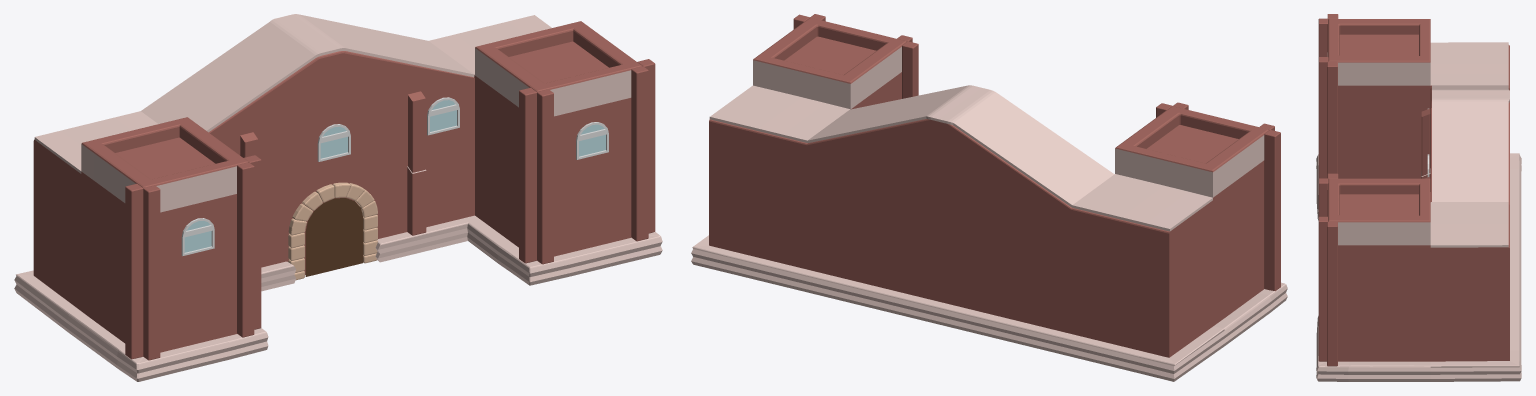
The model's file is Building.fbx.
3 renders of one model, left to right at view 1: azimuth 30°, elevation 25°; view 2: azimuth 150°, elevation 25°; view 3: azimuth 270°, elevation 25°, orthographic. The views are drawn at different scales.
Parts seen in each view (by area): view 1: Cube, Circle, Cube.010, Cube.009, Cube.003, Cube.011, Cube.008, Cube.006, Cube.004, Cube.001, Cube.007, Cube.005 (+4 smaller); view 2: Cube, Cube.010, Cube.003; view 3: Cube, Cube.007, Cube.008, Cube.005, Cube.006, Cube.002, Cube.004, Cube.011.
Part boxes in pixels (<box>): Cube: <box>14,14,662,381</box>; Circle: <box>305,198,363,276</box>; Cube.010: <box>125,183,143,359</box>; Cube.009: <box>288,182,377,280</box>; Cube.003: <box>519,87,536,263</box>; Cube.011: <box>143,185,160,360</box>; Cube.008: <box>631,66,648,241</box>; Cube.006: <box>237,162,254,337</box>; Cube.004: <box>537,89,553,264</box>; Cube.001: <box>407,91,426,235</box>; Cube.007: <box>637,59,655,233</box>; Cube.005: <box>244,155,261,329</box>; Cube: <box>691,18,1287,381</box>; Cube.010: <box>1264,130,1280,291</box>; Cube.003: <box>902,41,918,98</box>; Cube: <box>1316,19,1521,381</box>; Cube.007: <box>1327,221,1337,366</box>; Cube.008: <box>1318,216,1327,361</box>; Cube.005: <box>1327,61,1337,177</box>; Cube.006: <box>1318,57,1328,178</box>; Cube.002: <box>1421,108,1430,178</box>; Cube.004: <box>1318,178,1328,216</box>; Cube.011: <box>1318,18,1327,56</box>.
Bounding box in the file's own units: 18794 × 7406 × 7607.
